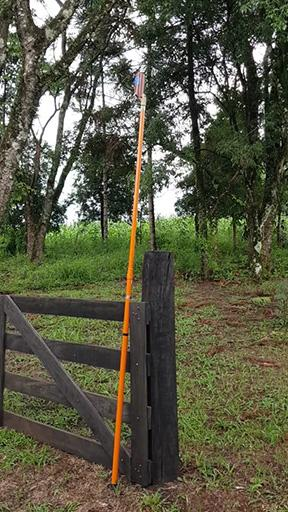Detector_Tensao_Contato: (132, 68, 145, 102)
Vara_Manobra: (109, 97, 147, 485)
